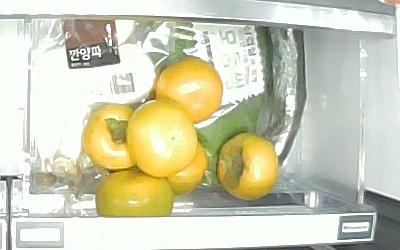persimmon: (126, 100, 198, 177), (155, 57, 222, 123), (216, 132, 280, 201), (93, 170, 174, 217), (81, 103, 135, 169), (166, 143, 208, 195)
